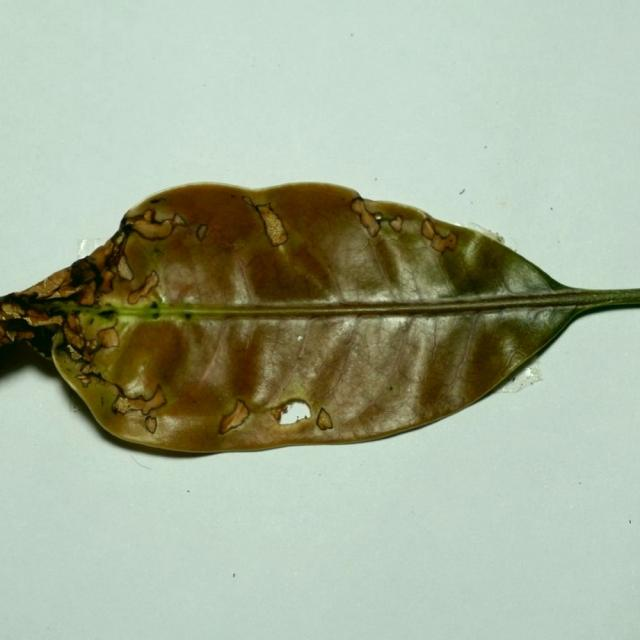Anthracnose: (115, 207, 199, 286), (220, 395, 330, 437), (2, 305, 65, 357), (82, 311, 137, 363), (60, 309, 109, 367), (111, 382, 169, 431), (242, 196, 288, 247), (102, 227, 135, 286), (127, 209, 183, 241), (84, 239, 119, 282), (420, 217, 459, 254), (349, 197, 383, 238), (126, 270, 160, 306), (218, 398, 251, 435), (63, 319, 88, 353), (22, 308, 64, 328), (96, 266, 118, 296), (112, 395, 139, 415), (1, 301, 30, 319), (76, 282, 97, 306), (57, 280, 82, 298), (66, 314, 82, 334)
Mango: (0, 182, 639, 460)
